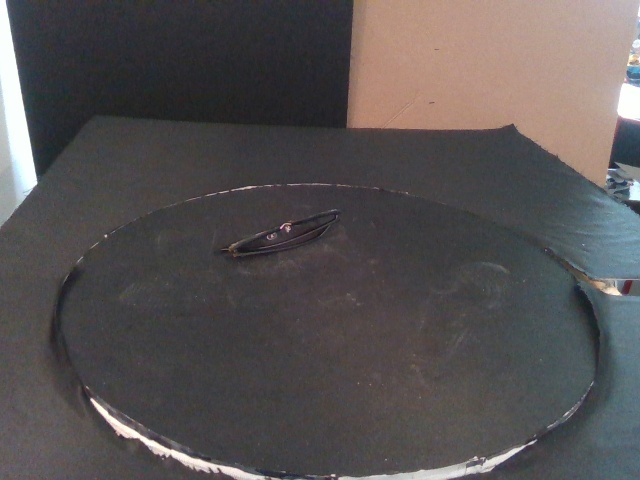glasses: (218, 209, 342, 259)
